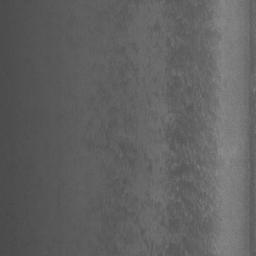Silk spot: (86, 0, 222, 256)
